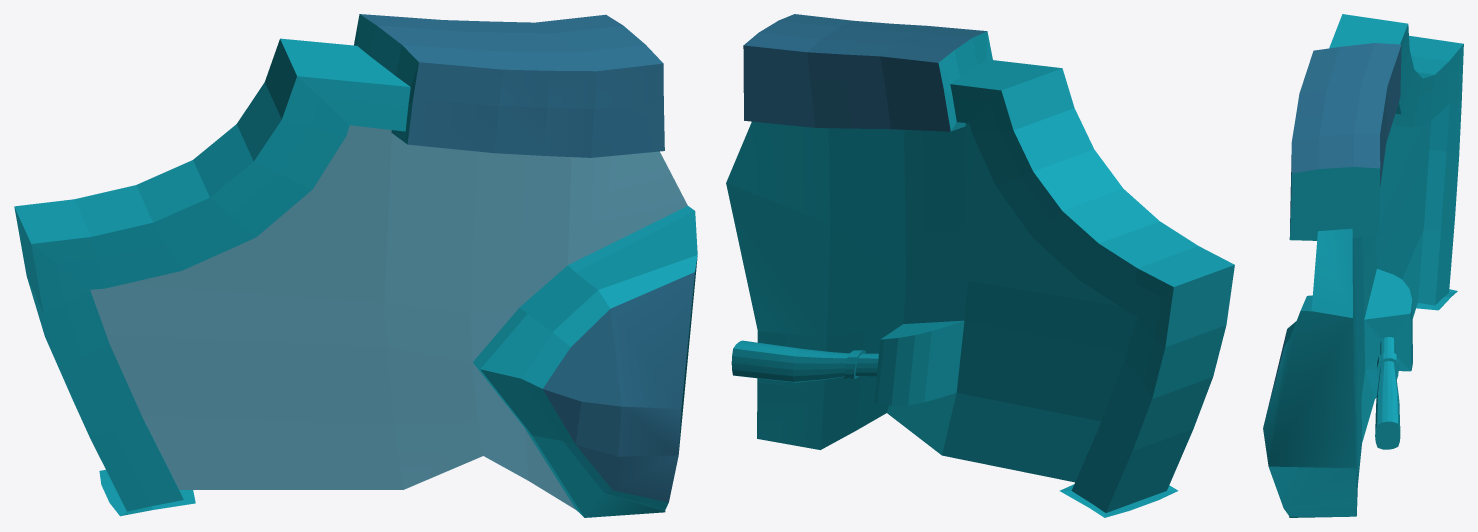
The model's file is perisai kiri atas.fbx.
The picture shows the model from 3 angles, left to right: view 1: azimuth 30°, elevation 25°; view 2: azimuth 150°, elevation 25°; view 3: azimuth 270°, elevation 25°; orthographic projection. The views are drawn at different scales.
Parts seen in each view (by area): view 1: kiri atas; view 2: kiri atas; view 3: kiri atas.
Part boxes in pixels (left/top/right/bottom): kiri atas: left=14, top=14, right=697, bottom=517; kiri atas: left=726, top=14, right=1234, bottom=517; kiri atas: left=1263, top=14, right=1463, bottom=517.
Size of the model in its own units: 127 by 102 by 47.84.
